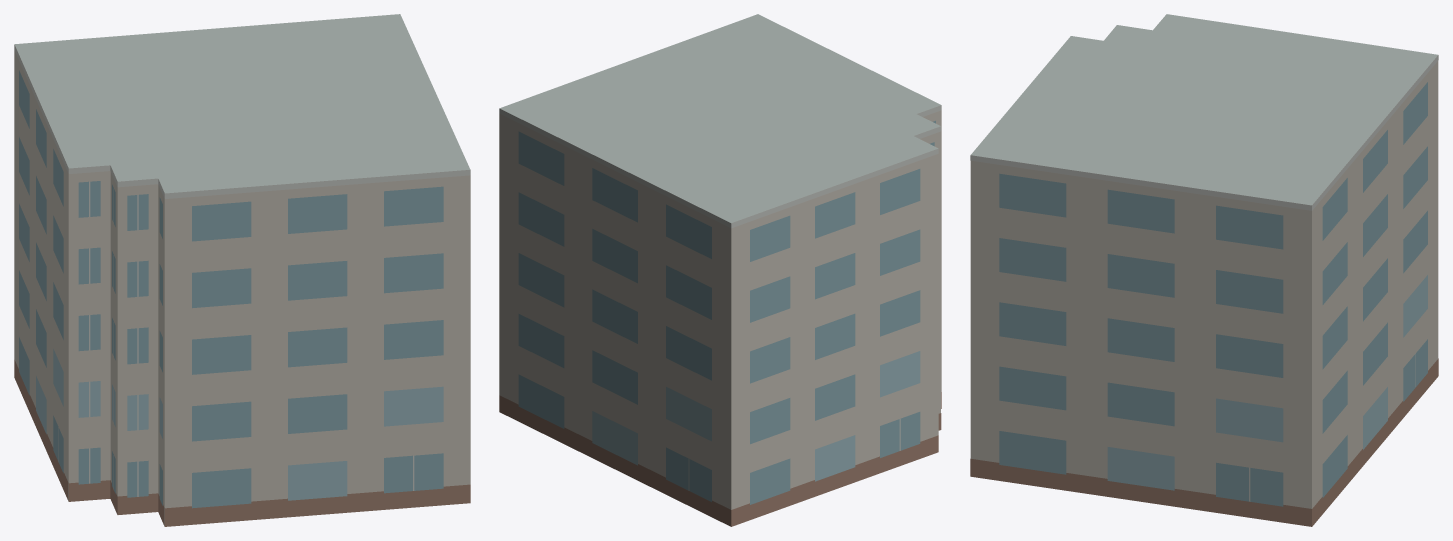
The model's file is survey-upis-32702221.glb.
3 renders of one model, left to right at view 1: azimuth 30°, elevation 25°; view 2: azimuth 150°, elevation 25°; view 3: azimuth 270°, elevation 25°, orthographic. The views are drawn at different scales.
Visible parts, largest first — view 1: survey-upis-32702221.tmp; view 2: survey-upis-32702221.tmp; view 3: survey-upis-32702221.tmp.
Part boxes in pixels (<box>): survey-upis-32702221.tmp: <box>14,14,470,526</box>; survey-upis-32702221.tmp: <box>499,14,941,526</box>; survey-upis-32702221.tmp: <box>970,14,1438,526</box>.
Bounding box in the file's own units: 18.4 × 14.4 × 19.01.
